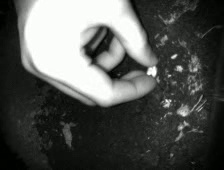corn: (150, 62, 159, 81), (144, 64, 154, 77)
